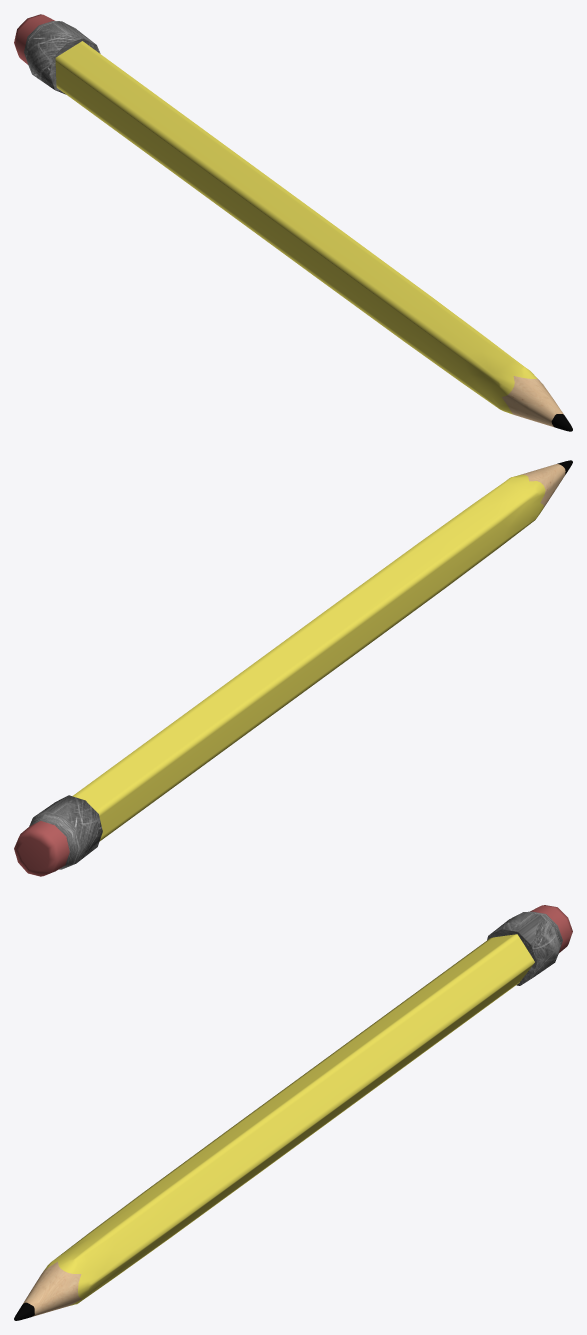
The model's file is Pencil.FBX.
The picture shows the model from 3 angles, top to bottom: view 1: azimuth 30°, elevation 25°; view 2: azimuth 150°, elevation 25°; view 3: azimuth 330°, elevation 25°; orthographic projection.
Parts seen in each view (by area): view 1: pencil; view 2: pencil; view 3: pencil.
Part boxes in pixels (bbox=[...]): pencil: bbox=[14, 14, 572, 431]; pencil: bbox=[14, 460, 572, 876]; pencil: bbox=[14, 905, 572, 1320].
Bounding box in the file's own units: 0.9815 × 0.9439 × 16.6.
Materials: 1 (1 with a texture image).
